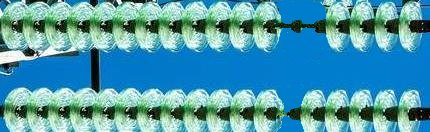gap: (252, 1, 351, 55), (254, 85, 326, 132)
